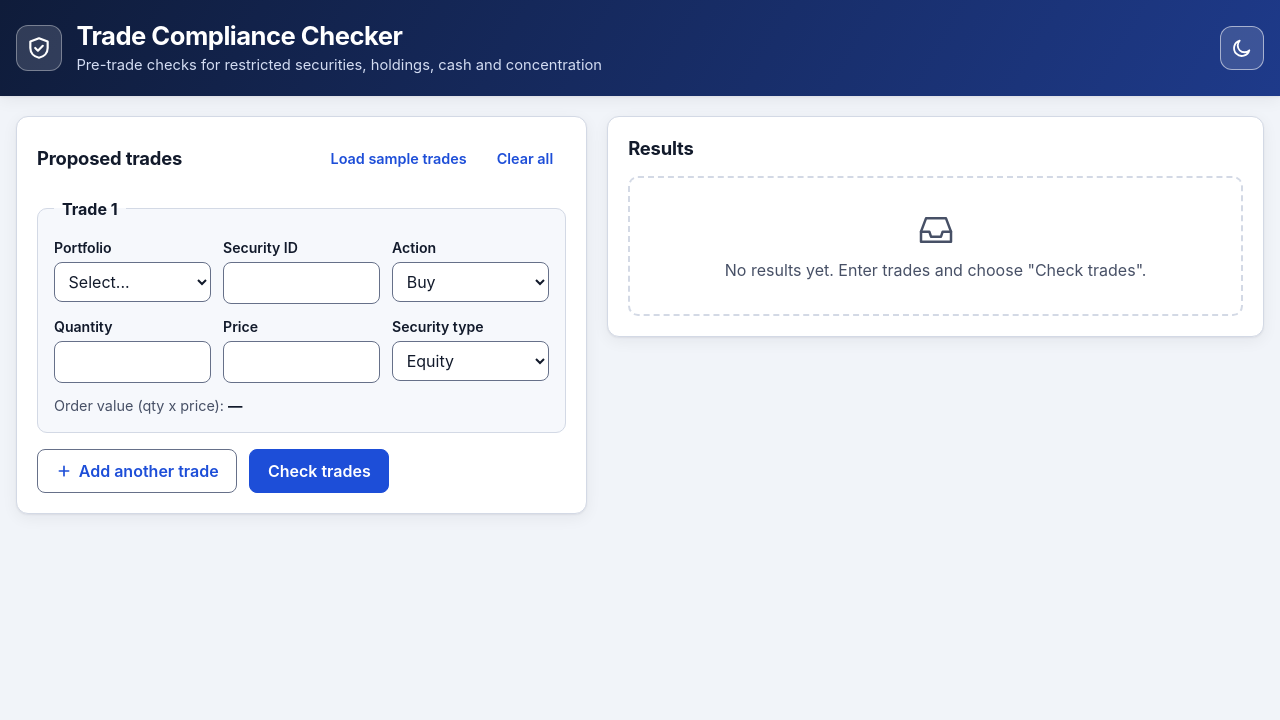
Test: focus and aria › removeRow_movesFocusToRemainingRowFirstField
The width and height of the screenshot is (1280, 720).
What coordinates should you click on to do the following:
click the button "Add another trade"
I would click on:
 (137, 472)
Its box is [37,450,237,494].
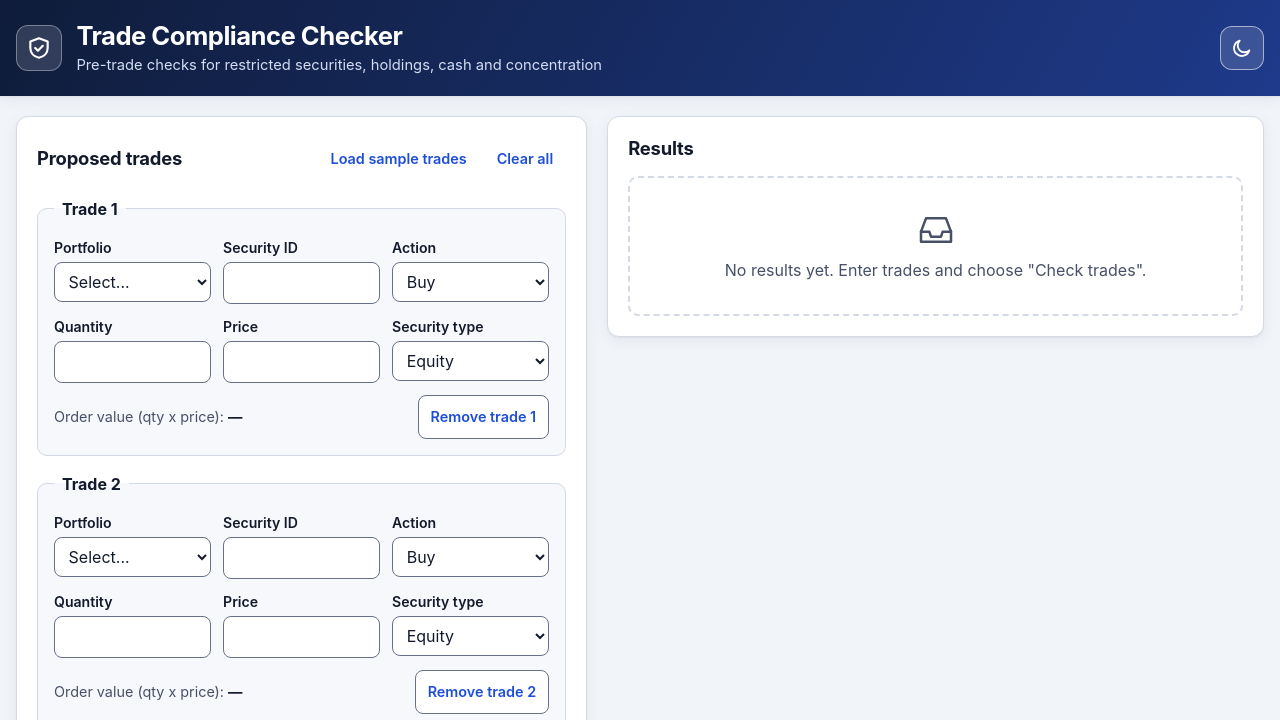
What coordinates should you click on to do the following:
click the button "Remove trade 2"
I would click on:
 (482, 692)
Its box is [415,670,549,714].
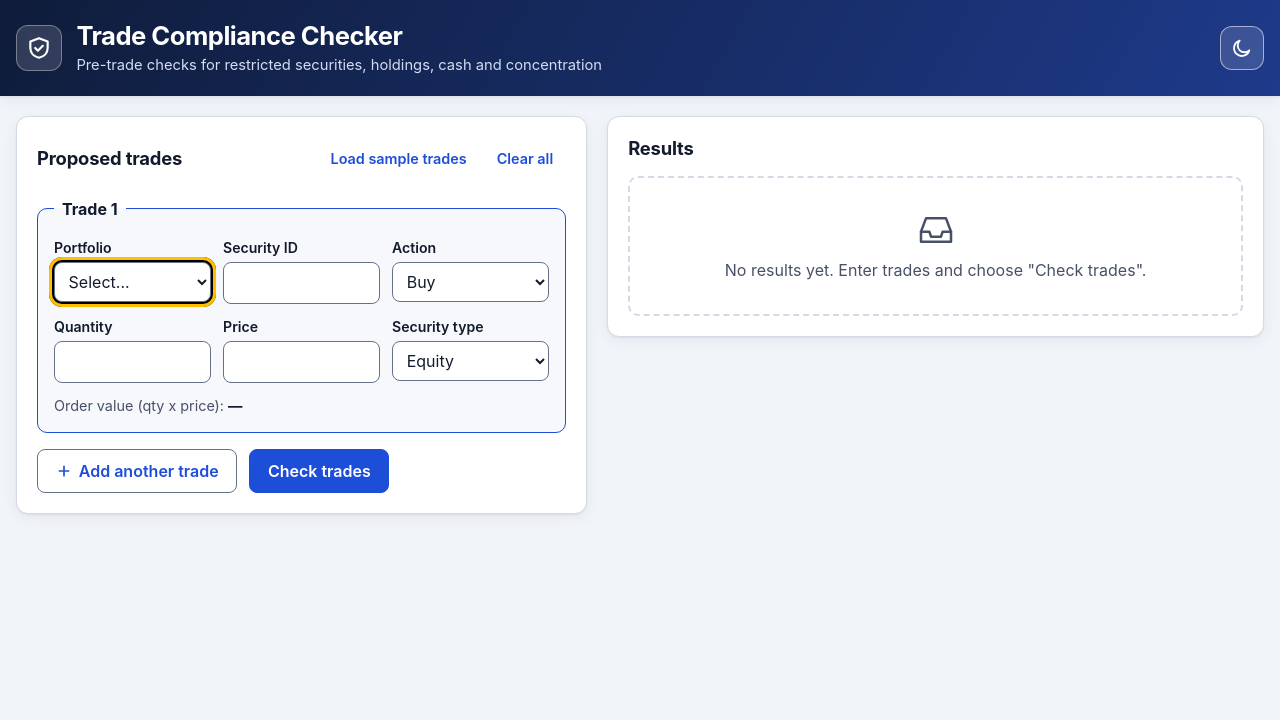
Result: the number of dropdowns labelled "Portfolio" is 1 at [54,262,211,302]
